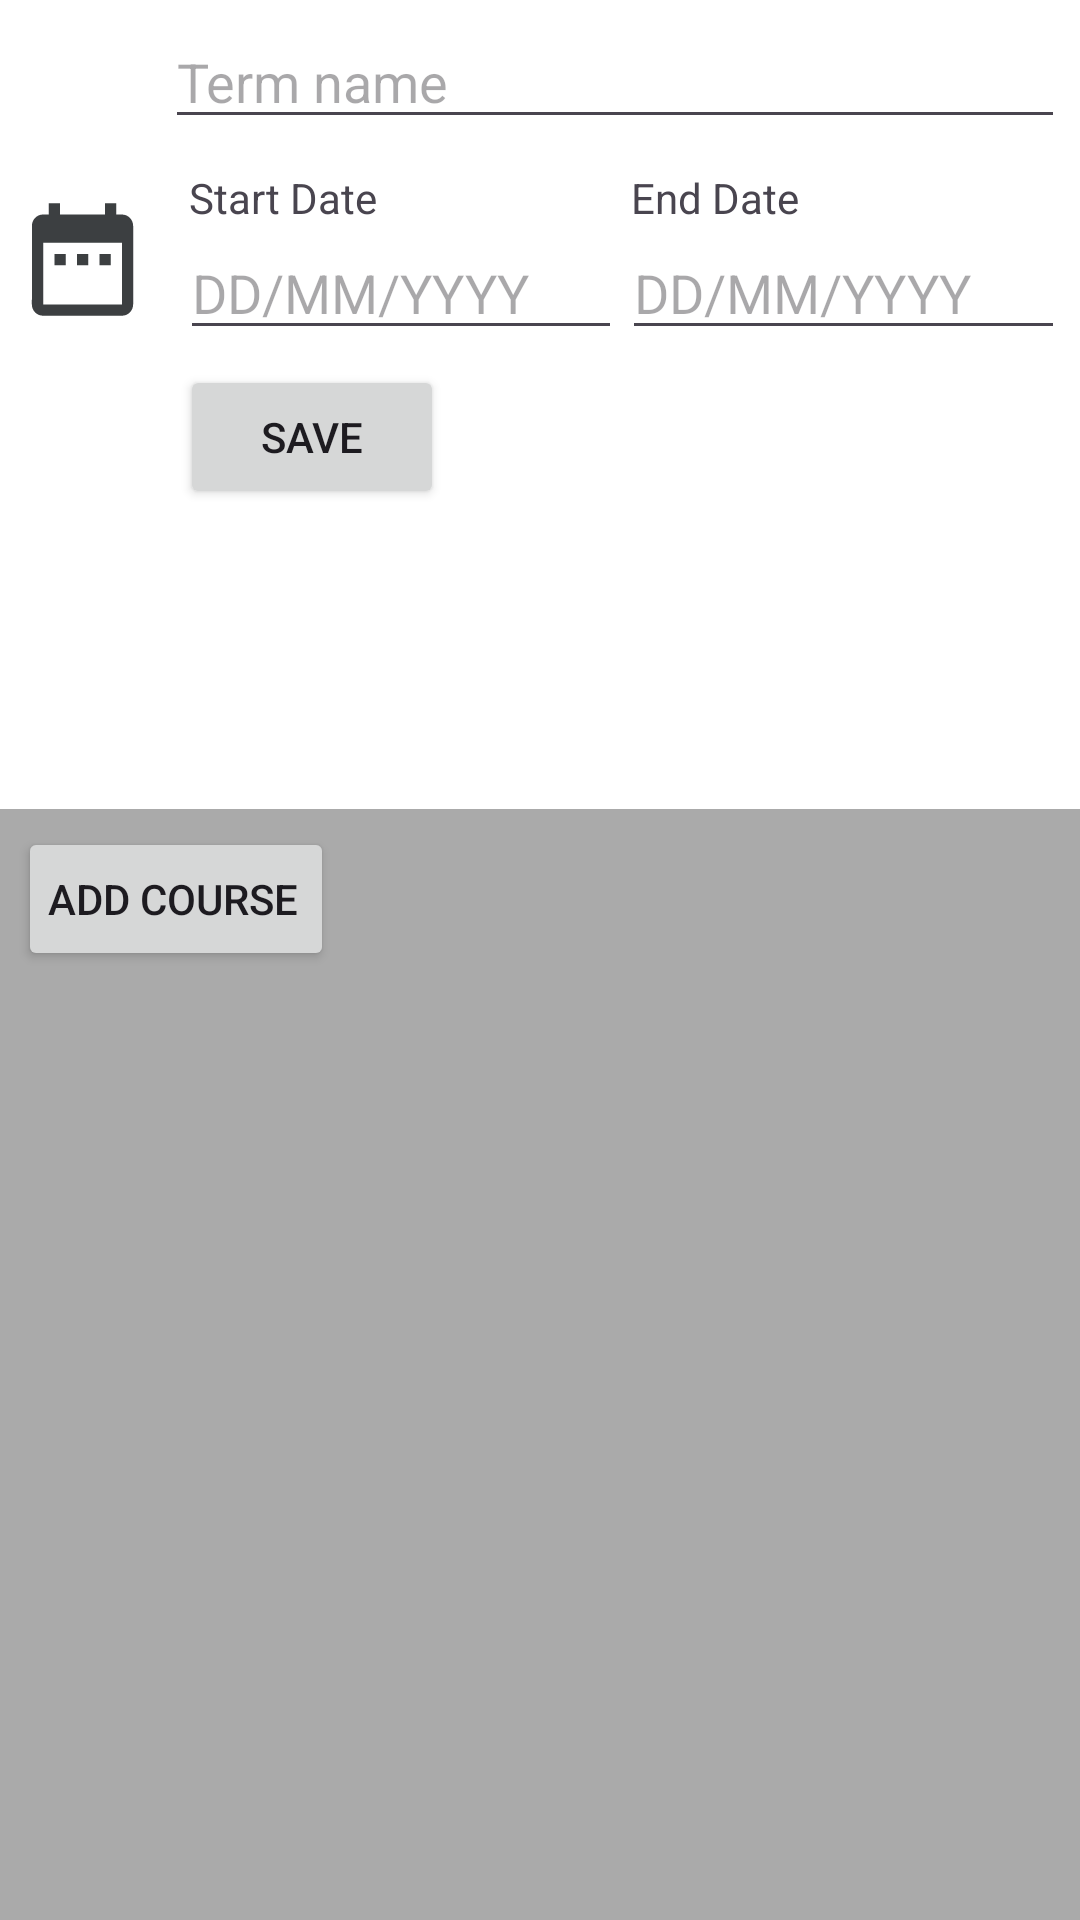

Screen size 1080w x 1920h. Icon name, then its box in pixels as rect(x1, y1, x2, y2):
date range: rect(31, 203, 134, 316)
